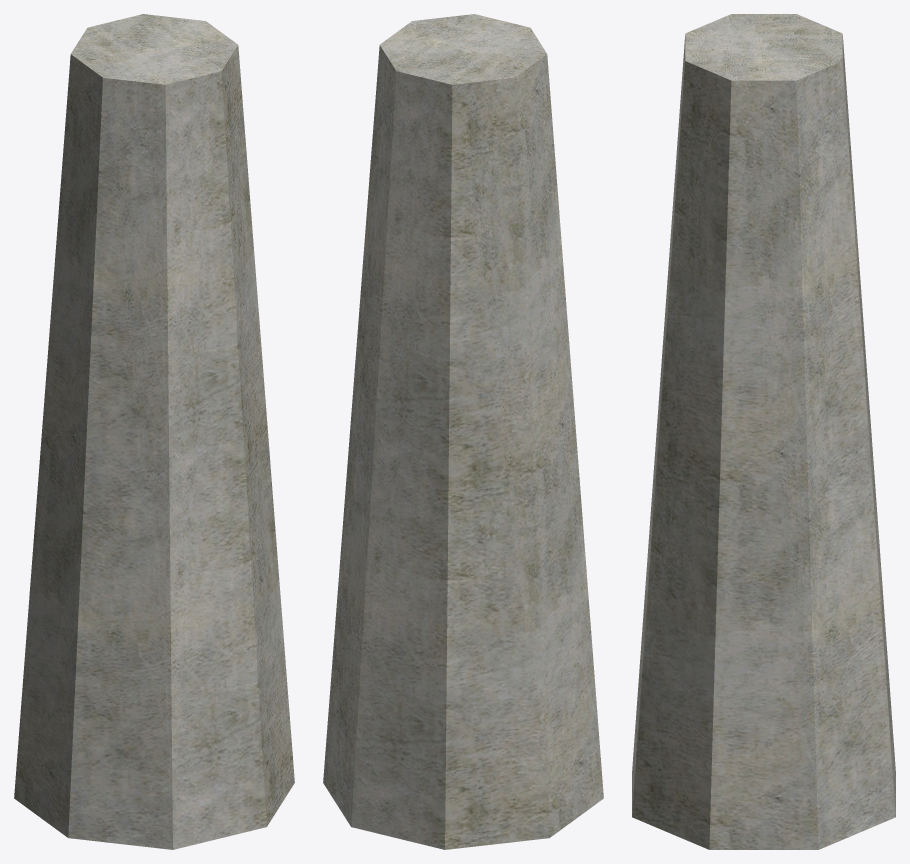
File: mun_all_military_column_weak_rebl_s01_l1.fbx
The picture shows the model from 3 angles, left to right: view 1: azimuth 30°, elevation 25°; view 2: azimuth 150°, elevation 25°; view 3: azimuth 270°, elevation 25°; orthographic projection.
Parts seen in each view (by area): view 1: mesh_node; view 2: mesh_node; view 3: mesh_node.
Part boxes in pixels (x1,y1,x2,y2): mesh_node: (14, 14, 294, 849); mesh_node: (323, 14, 603, 849); mesh_node: (632, 14, 895, 849).
Bounding box in the file's own units: 2 × 6.25 × 2.
